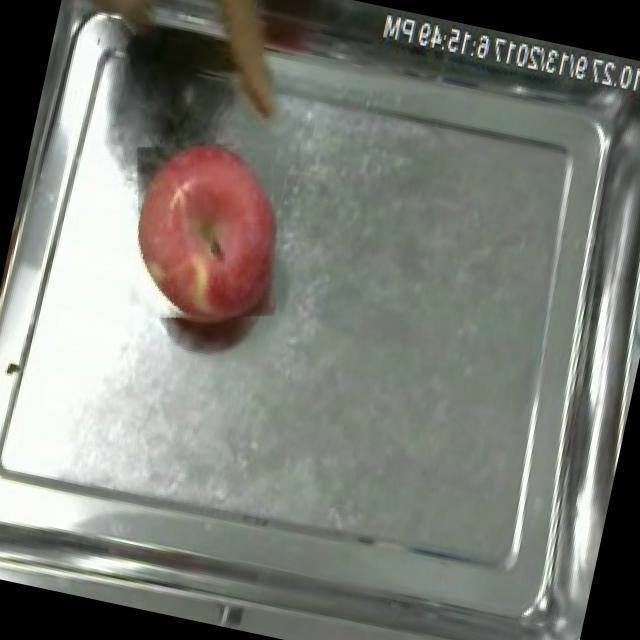apple: (137, 143, 276, 324)
